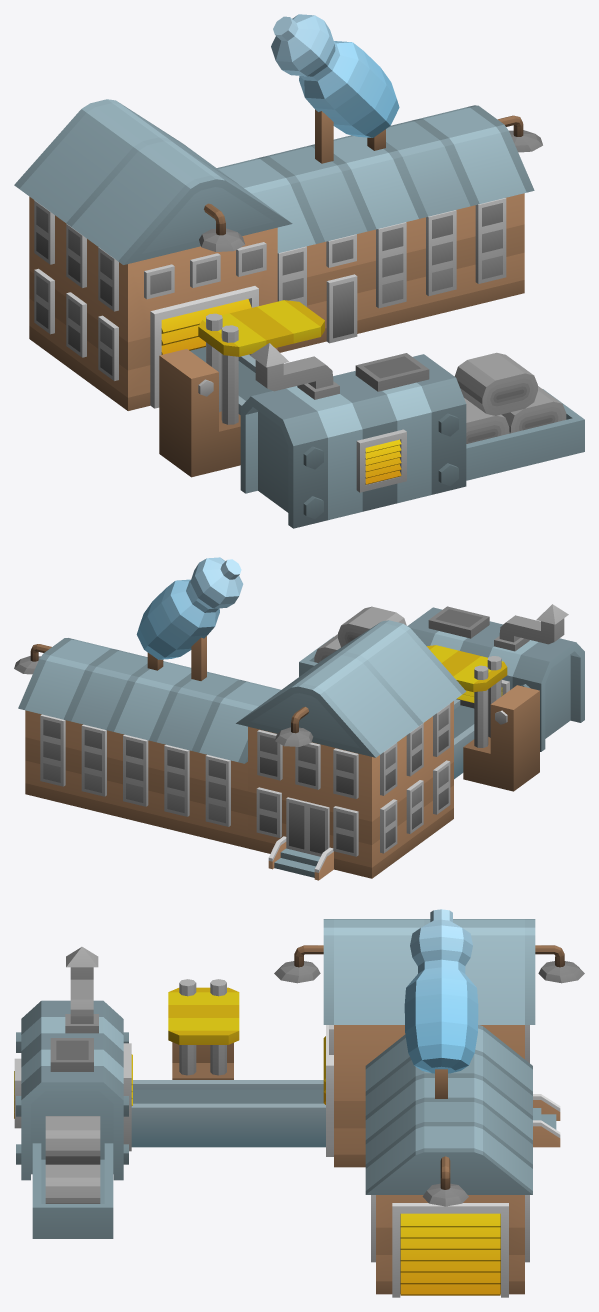
Rendered from plastics factory house.fbx.
The picture shows the model from 3 angles, top to bottom: view 1: azimuth 30°, elevation 25°; view 2: azimuth 150°, elevation 25°; view 3: azimuth 270°, elevation 25°; orthographic projection. The views are drawn at different scales.
Parts seen in each view (by area): view 1: plastics_factory_house; view 2: plastics_factory_house; view 3: plastics_factory_house.
Boxes of the visible parts, x1,y1,x2,y2 form: plastics_factory_house: [14, 14, 584, 528]; plastics_factory_house: [14, 557, 584, 880]; plastics_factory_house: [14, 909, 584, 1297].
Size of the model in its own units: 1774 by 1037 by 1849.
1 material, 1 textured.
